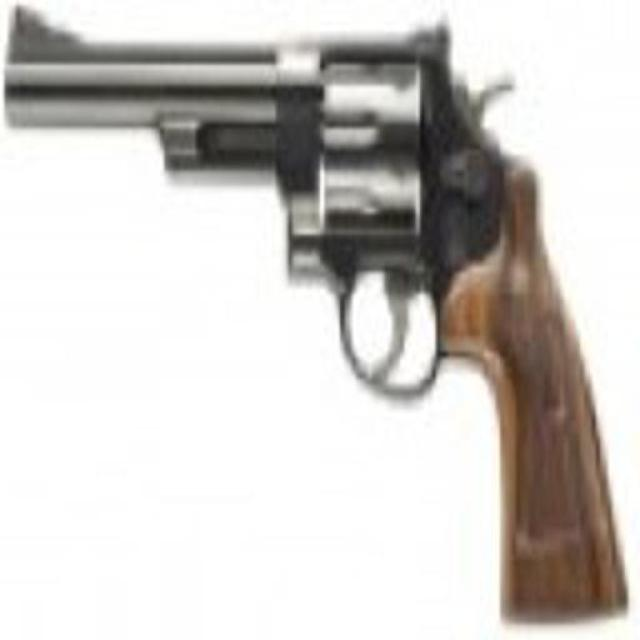pistol: (4, 10, 628, 629)
